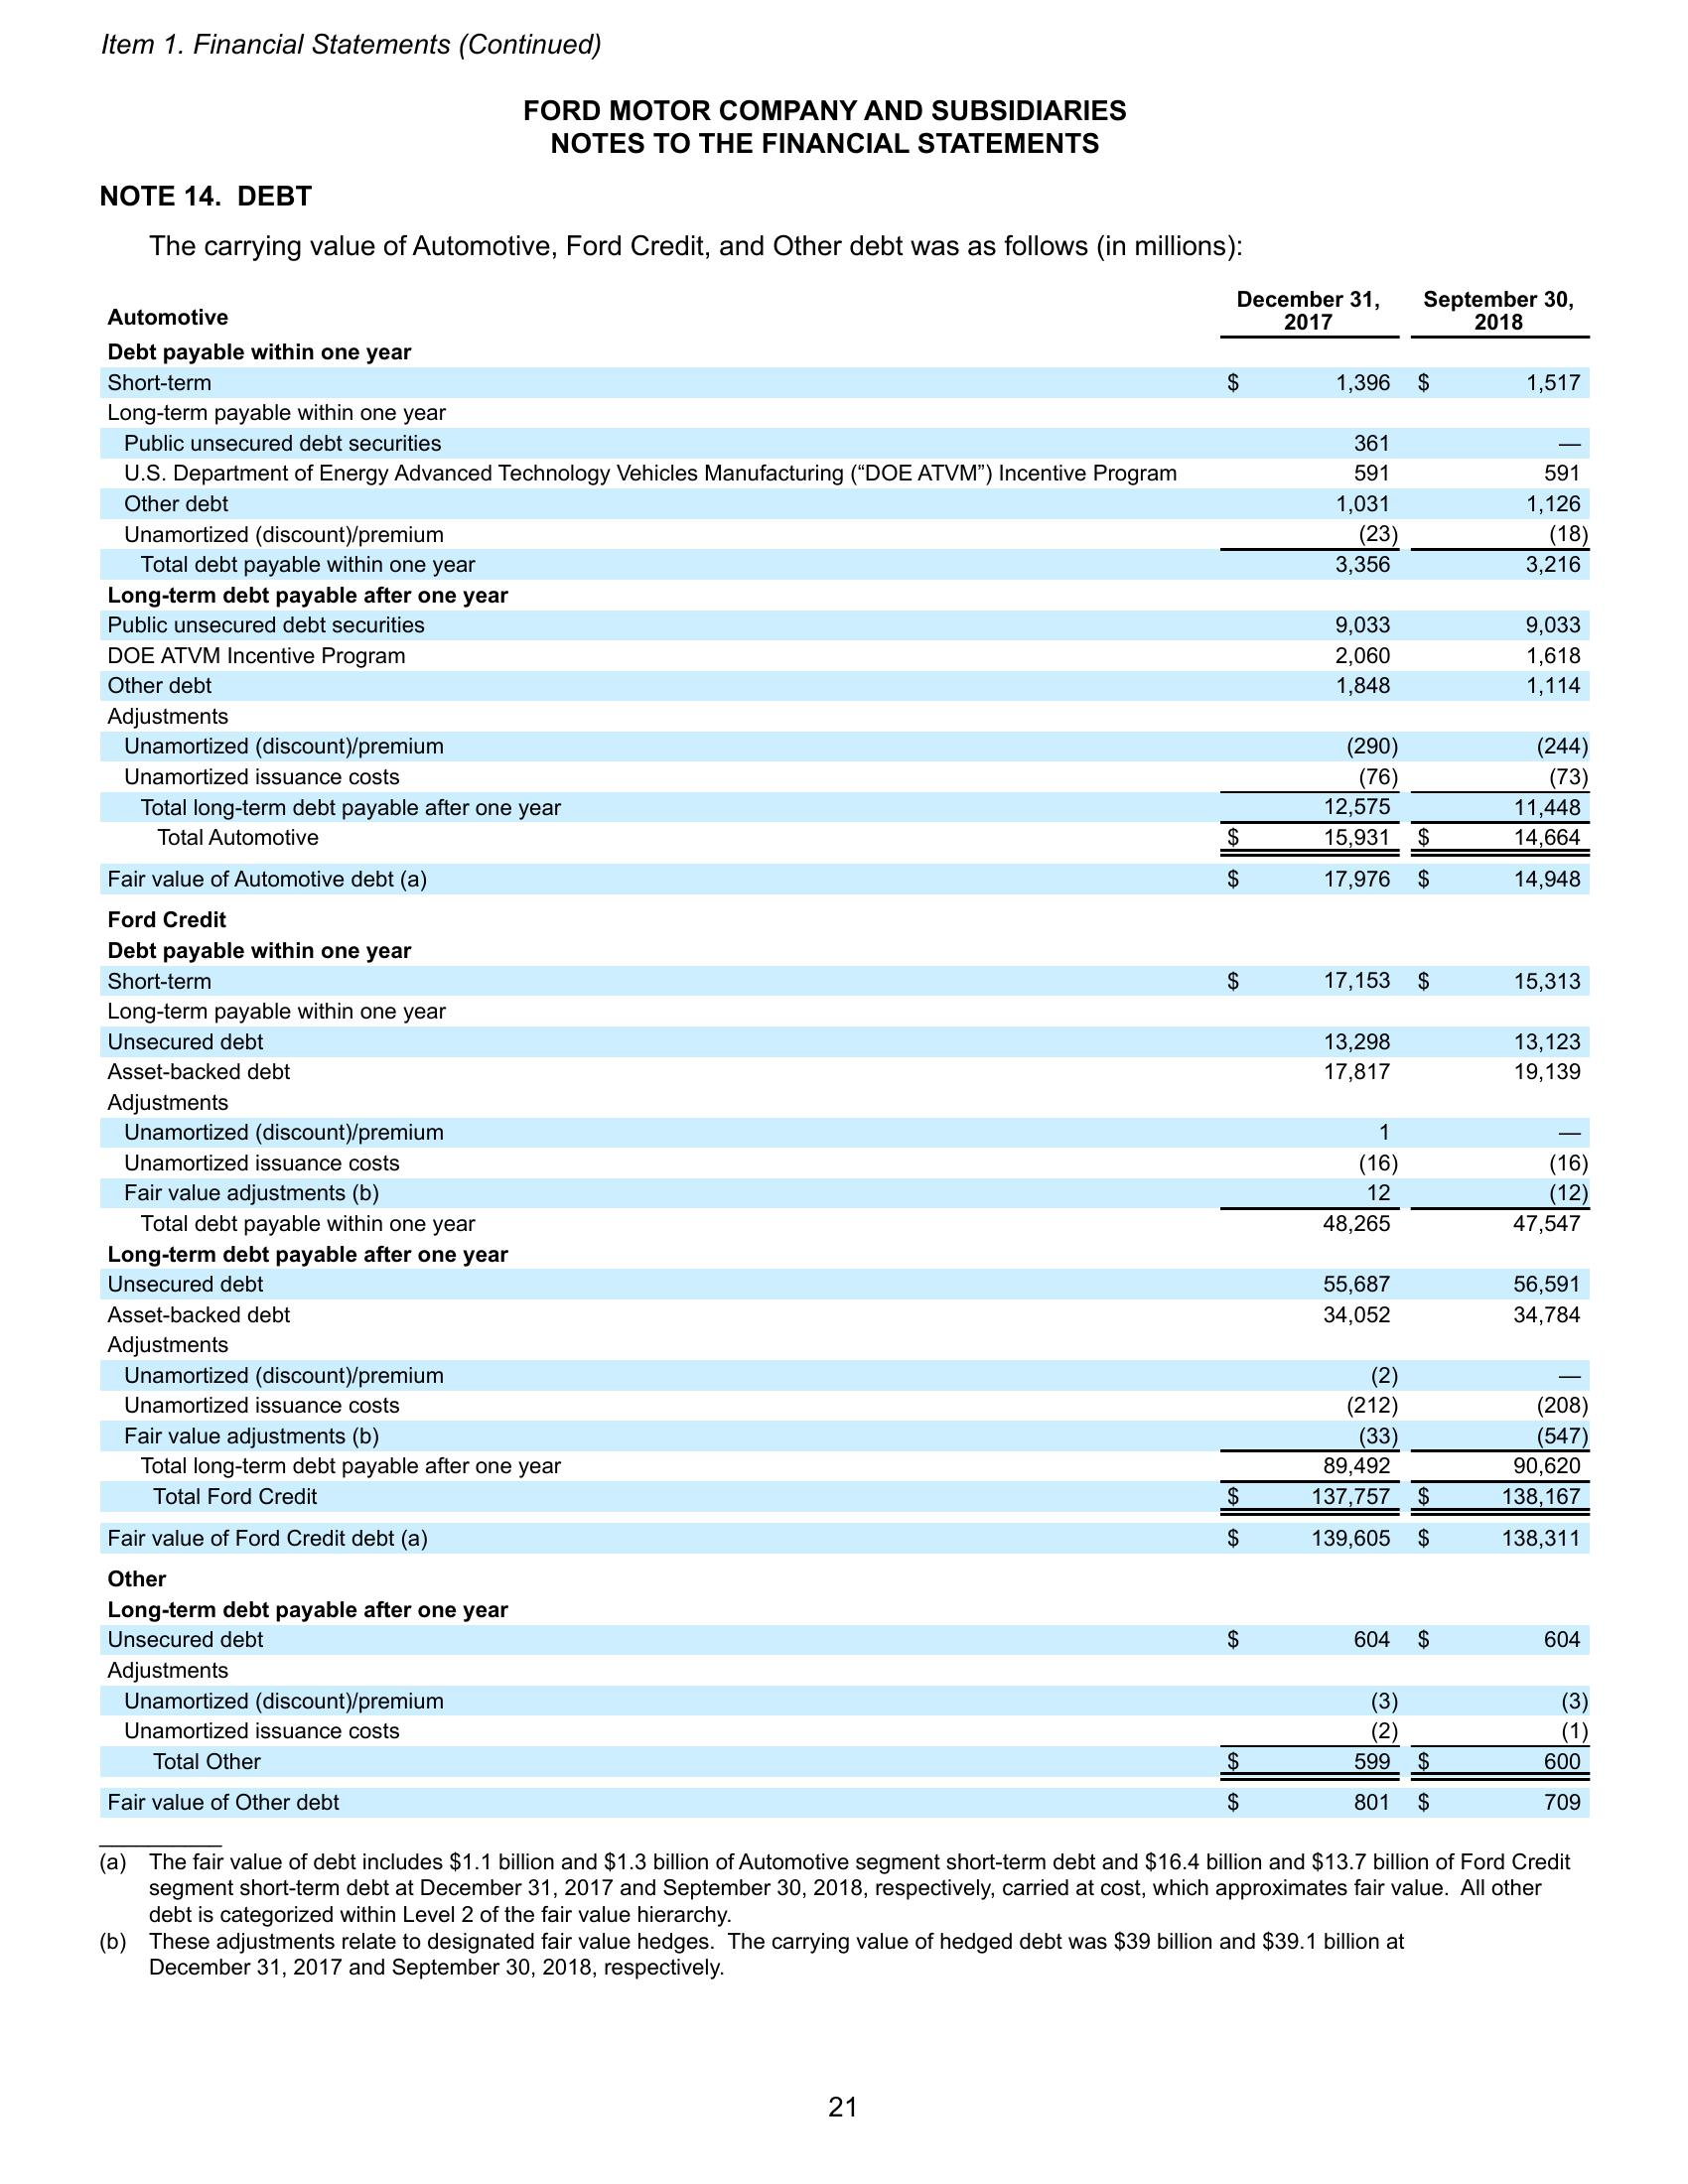table: (96, 284, 1599, 1826)
